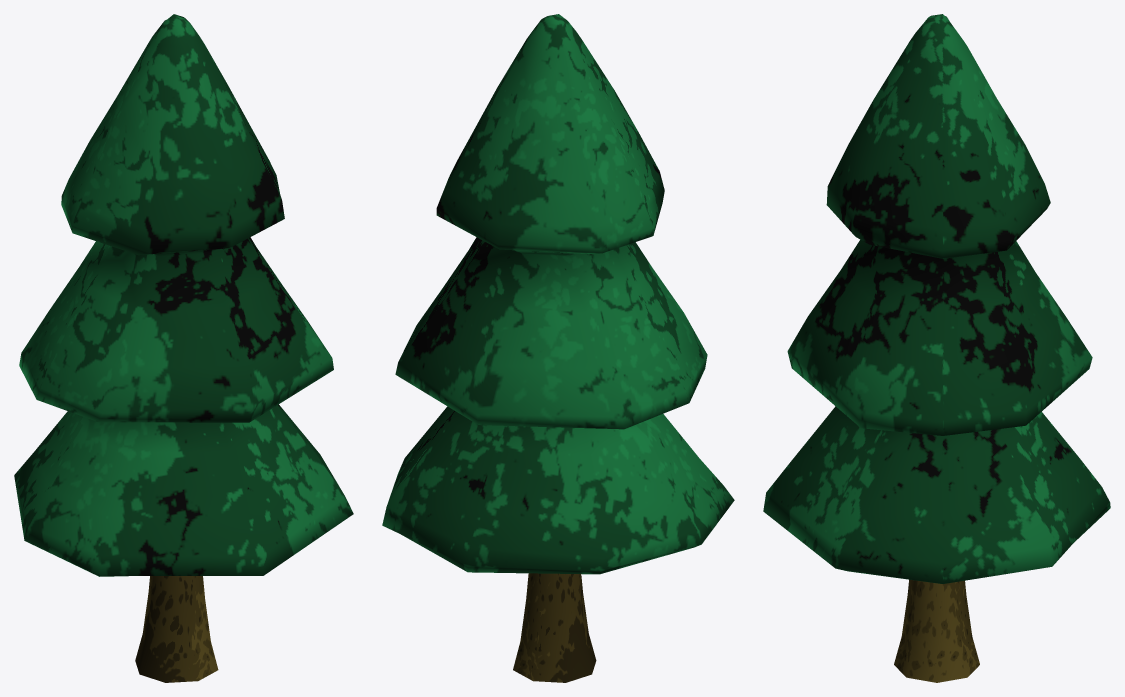
Rendered from PineTree1.glb.
The picture shows the model from 3 angles, left to right: view 1: azimuth 30°, elevation 25°; view 2: azimuth 150°, elevation 25°; view 3: azimuth 270°, elevation 25°; orthographic projection.
Visible parts, largest first — view 1: Plane, Cylinder; view 2: Plane, Cylinder; view 3: Plane, Cylinder.
Part boxes in pixels (x1,y1,x2,y2): Plane: (14,14,353,576); Cylinder: (135,576,218,682); Plane: (382,14,734,574); Cylinder: (513,573,596,682); Plane: (763,14,1110,583); Cylinder: (894,579,979,682).
Size of the model in its own units: 2.73 by 5.59 by 2.71.
2 materials, 2 textured.
